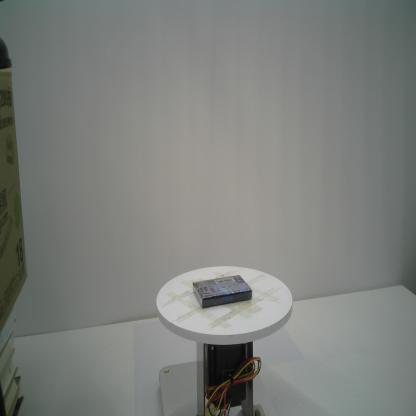Gum: (193, 274, 252, 310)
